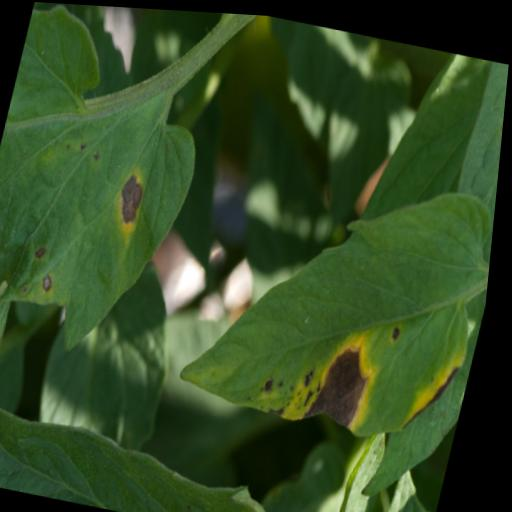Early Blight: (174, 134, 503, 449), (0, 0, 229, 380)
